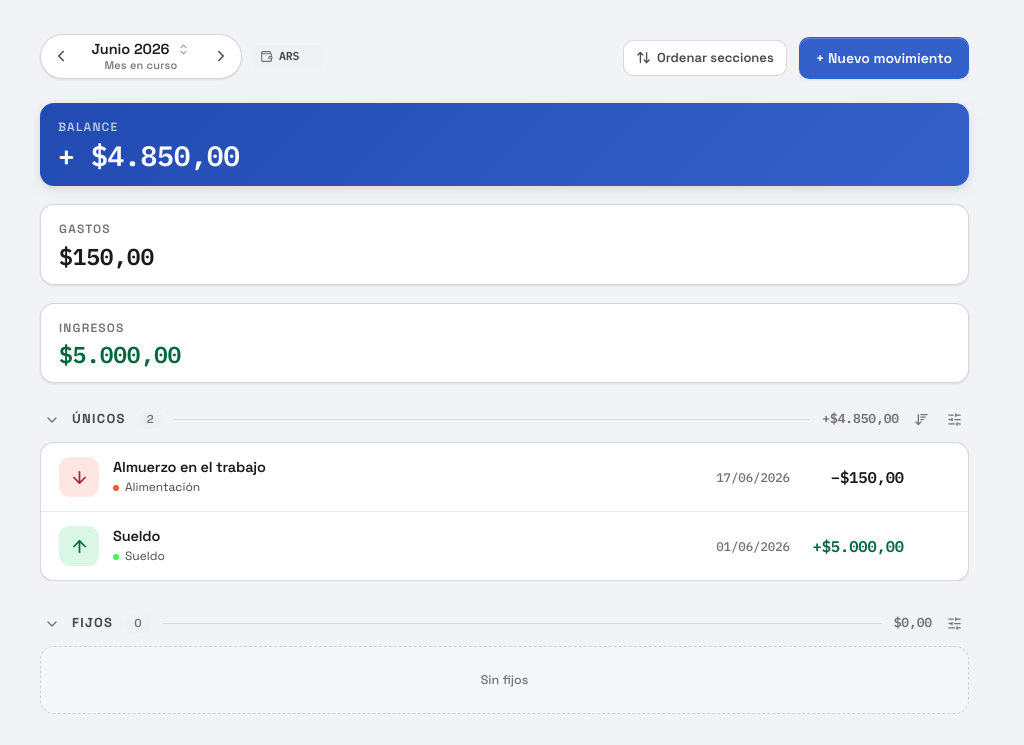
Test: MonthViewClient › Fase 1.1.4 P5 — Acordeón › volver a clickear expande la sección (aria-expanded=true)
Click the button "Únicos 2 +$4.850,00" at (99, 419), box [40,410,903,429]
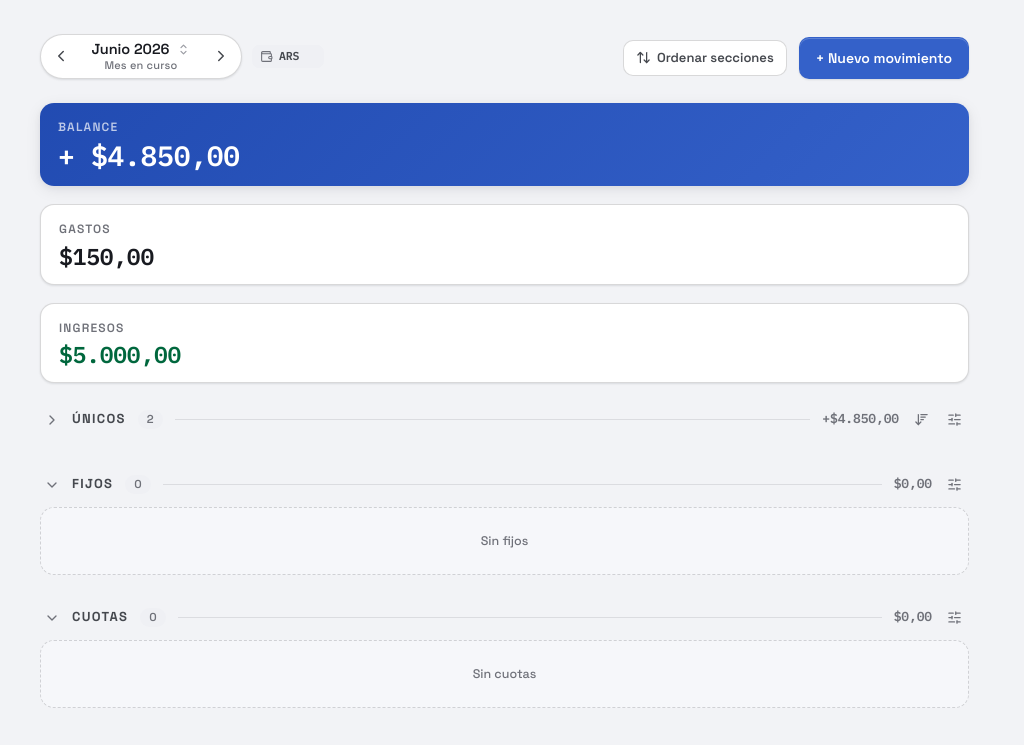
Check: the button "Únicos 2 +$4.850,00" is collapsed
Click the button "Únicos 2 +$4.850,00" at (99, 419), box [40,410,903,429]
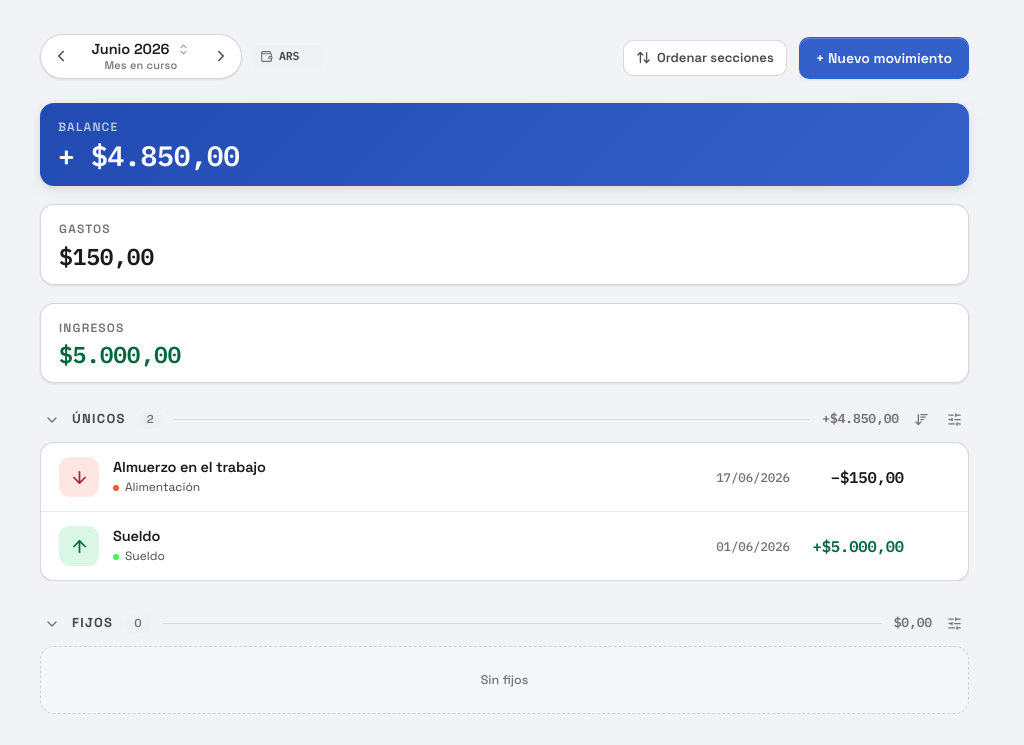
Check: the button "Únicos 2 +$4.850,00" is expanded, box [40,410,903,429]
